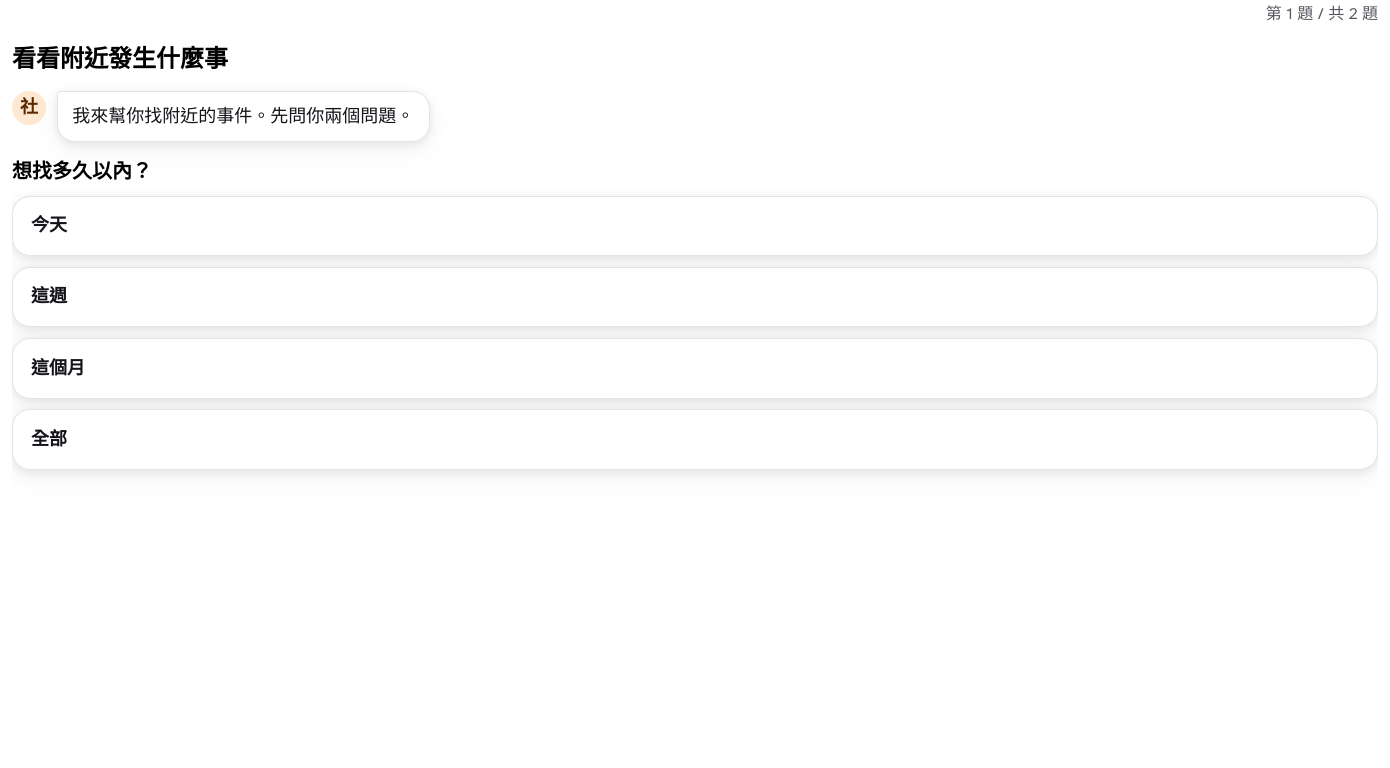
Test: 選項題選完前進到下一題
Click the button "今天". click: (49, 225)
box: [12,196,1378,256]
Wait 1000 ms
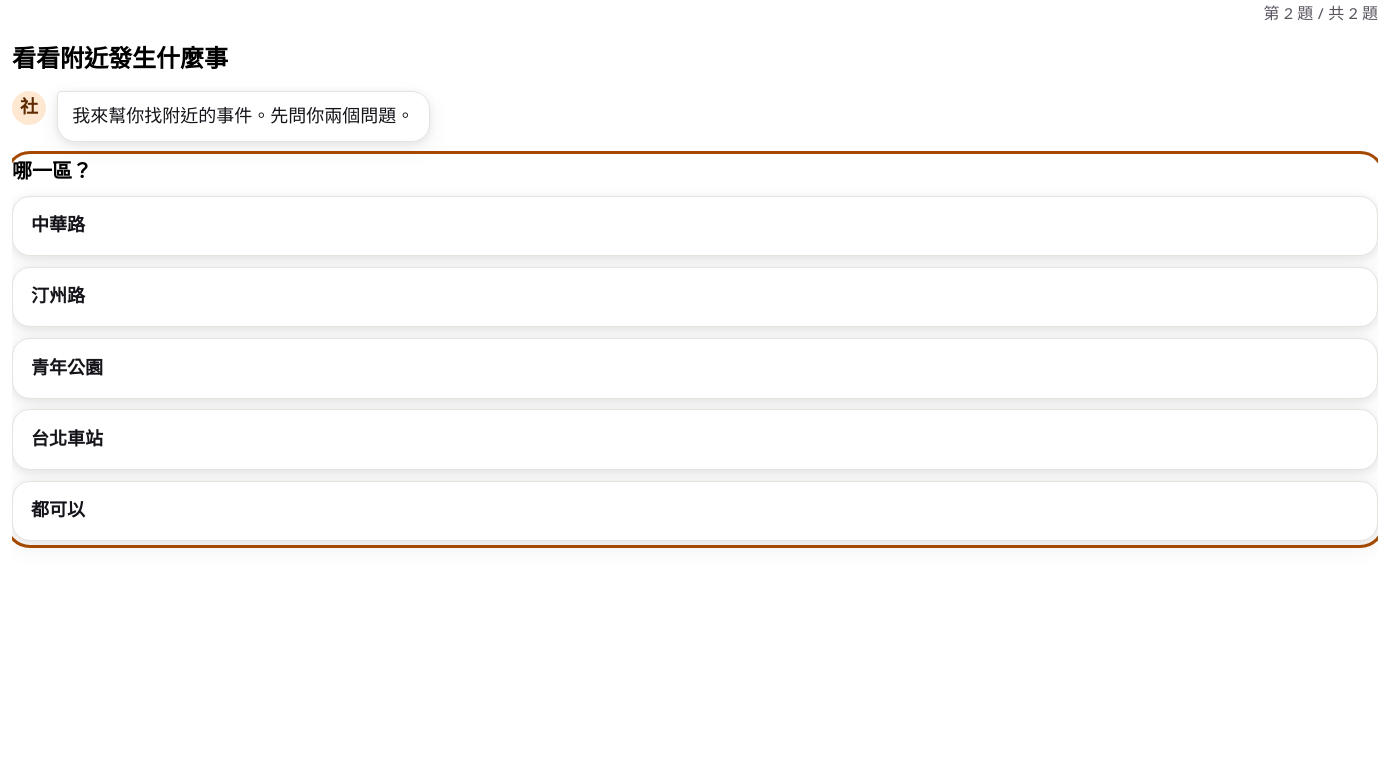
Expected: the text "哪一區？" is shown, [12,159,92,184]
